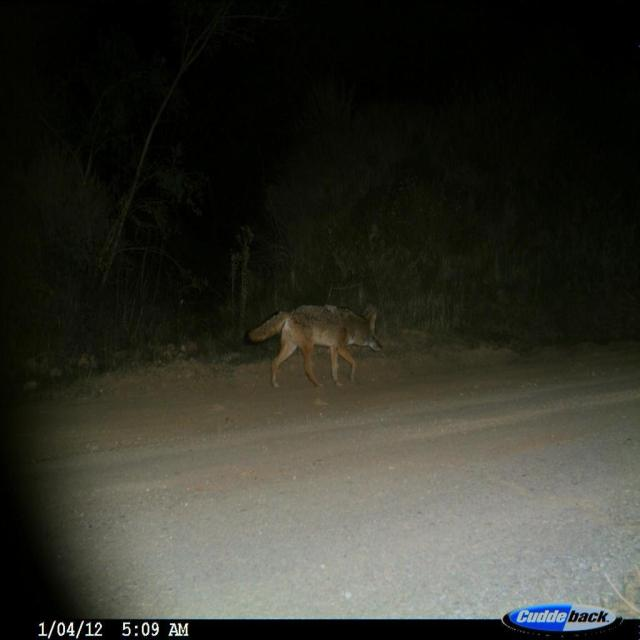coyote: (238, 292, 390, 396)
